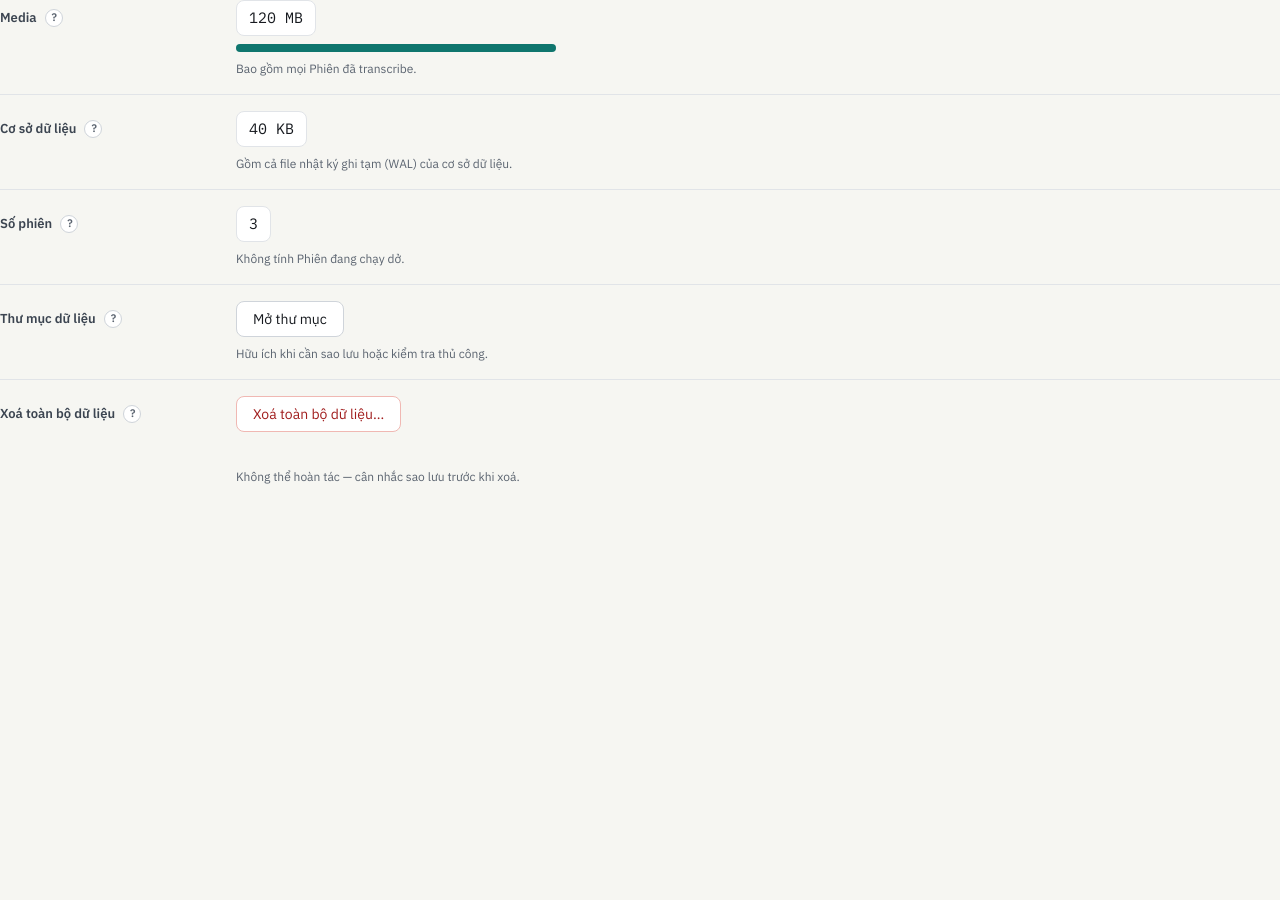
SettingsStorage › shows a busy notice when the outcome is Busy, without reloading sessions/tags
The image size is (1280, 900).
Expected: the text "120 MB" is shown, 236,0 -> 316,36
Step 1. Click the button "Xoá toàn bộ dữ liệu…" → (319, 414), box 236,396 -> 401,432
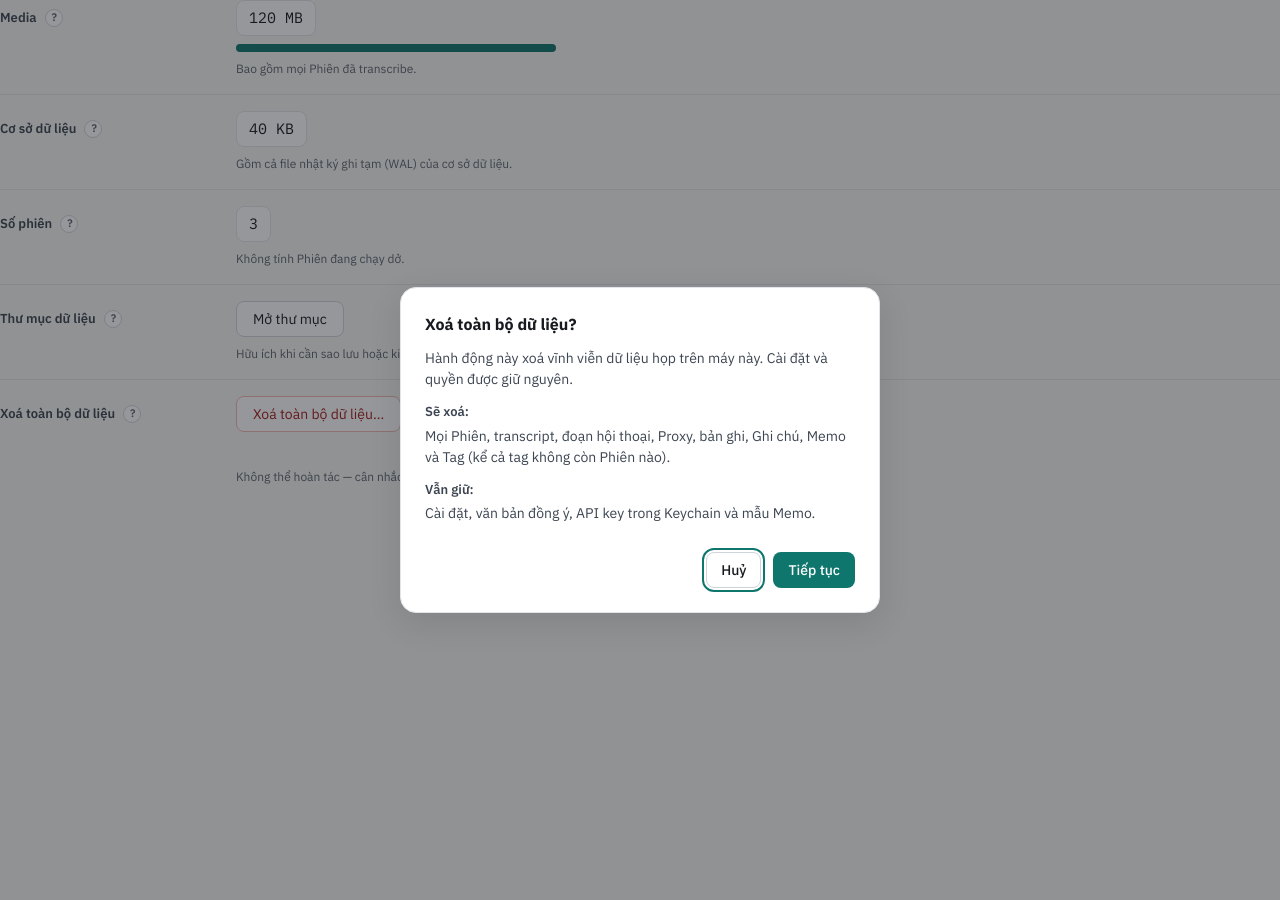
Step 2. Click the button "Tiếp tục" → (814, 570), box 774,552 -> 855,588
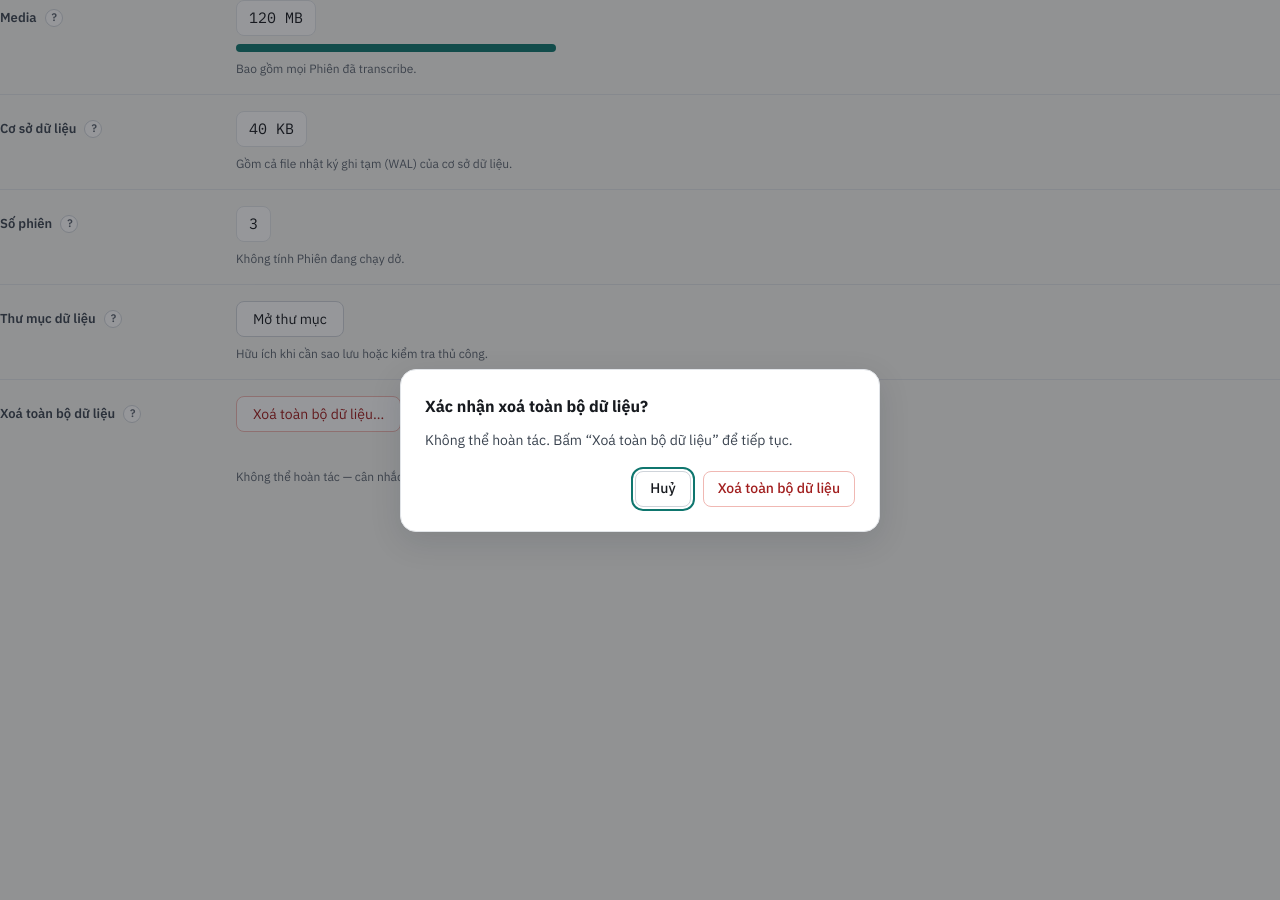
Step 3. Click the button "Xoá toàn bộ dữ liệu" → (779, 488), box 703,470 -> 855,506
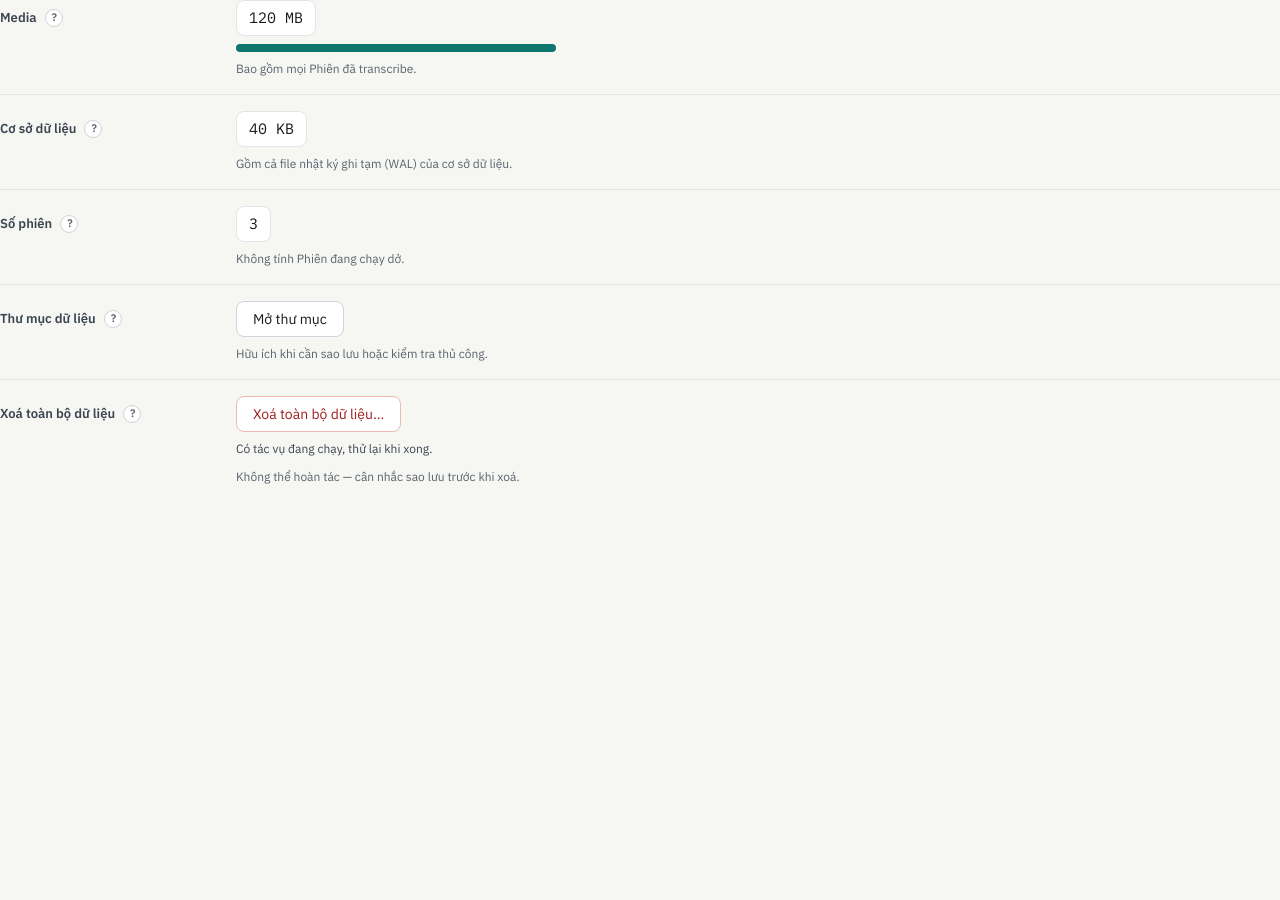
Now the text "Có tác vụ đang chạy, thử lại khi xong." is shown, box 236,441 -> 432,456
